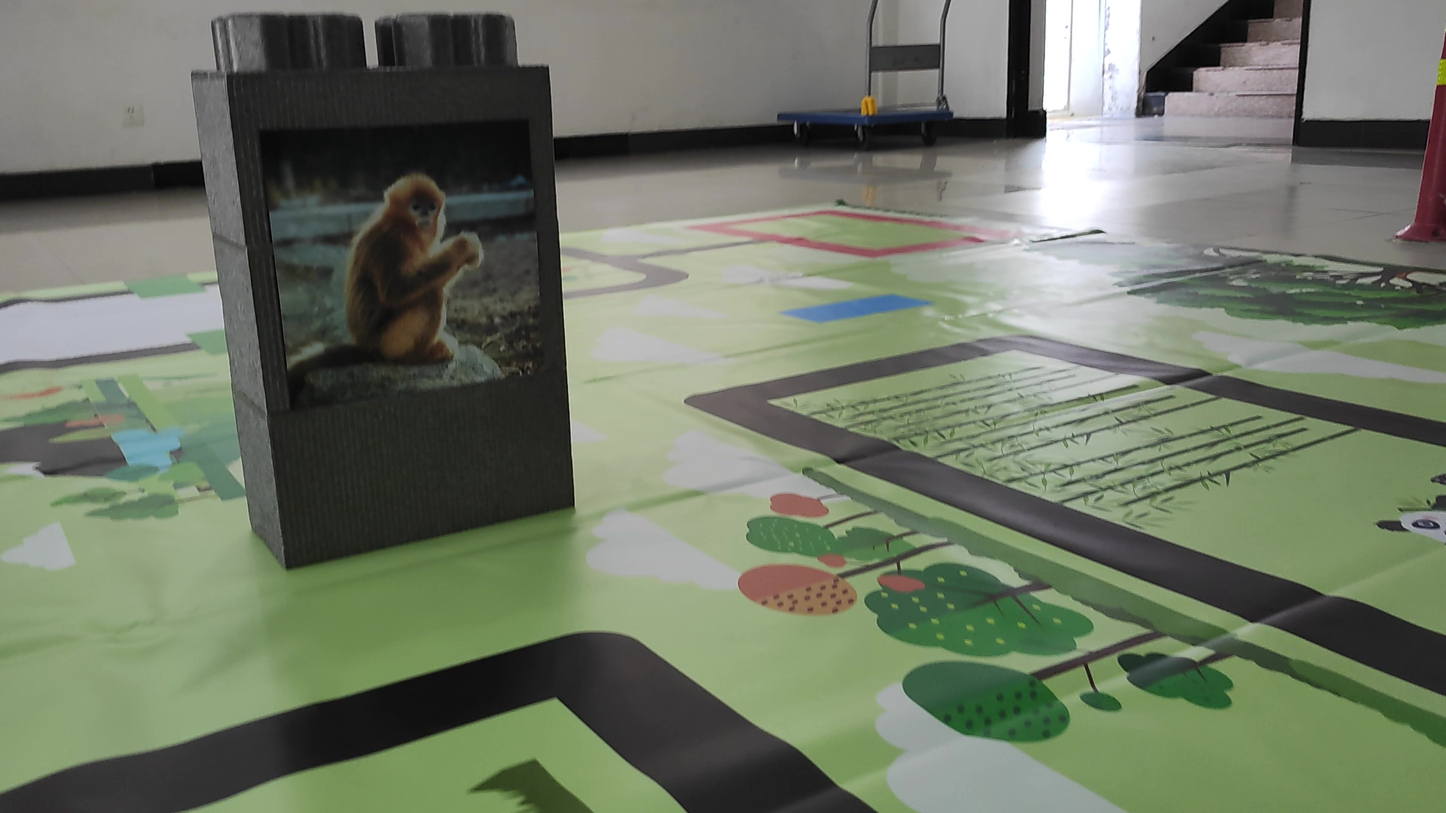monkey: (299, 149, 528, 381)
